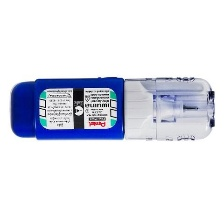correction_fluid: (6, 74, 218, 143)
